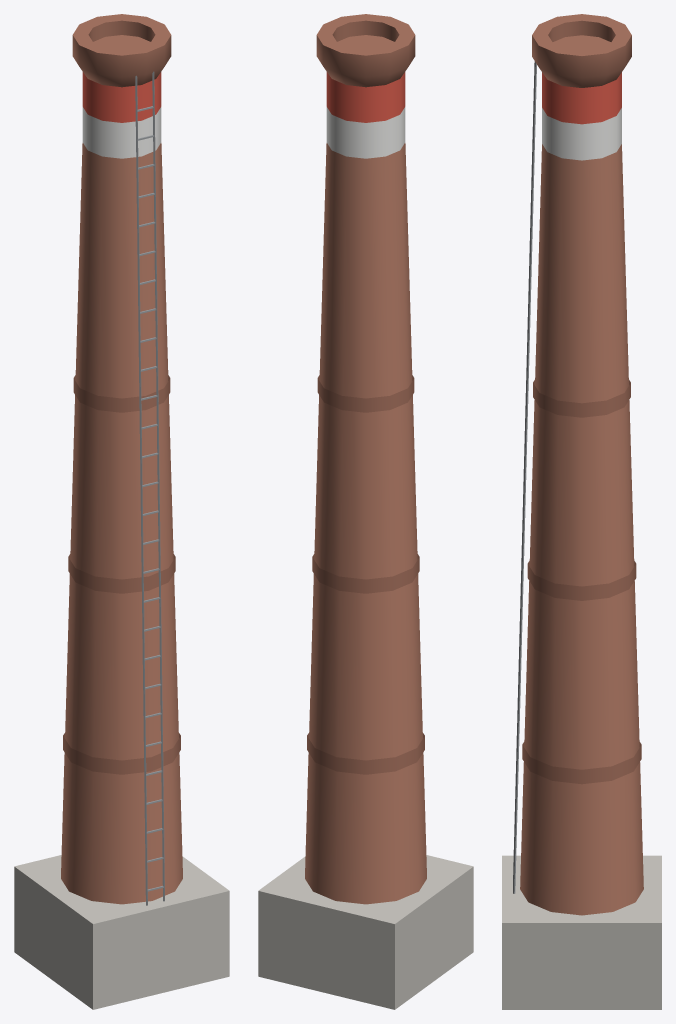
Rendered from smokestack.fbx.
3 views of the same model, side by side, from view 1: azimuth 30°, elevation 25°; view 2: azimuth 150°, elevation 25°; view 3: azimuth 270°, elevation 25° (orthographic).
Parts seen in each view (by area): view 1: smokestack; view 2: smokestack; view 3: smokestack.
Part boxes in pixels (x1,y1,x2,y2): smokestack: (14, 14, 229, 1009); smokestack: (258, 14, 473, 1009); smokestack: (502, 14, 661, 1009).
Bounding box in the file's own units: 4 × 26 × 4.
